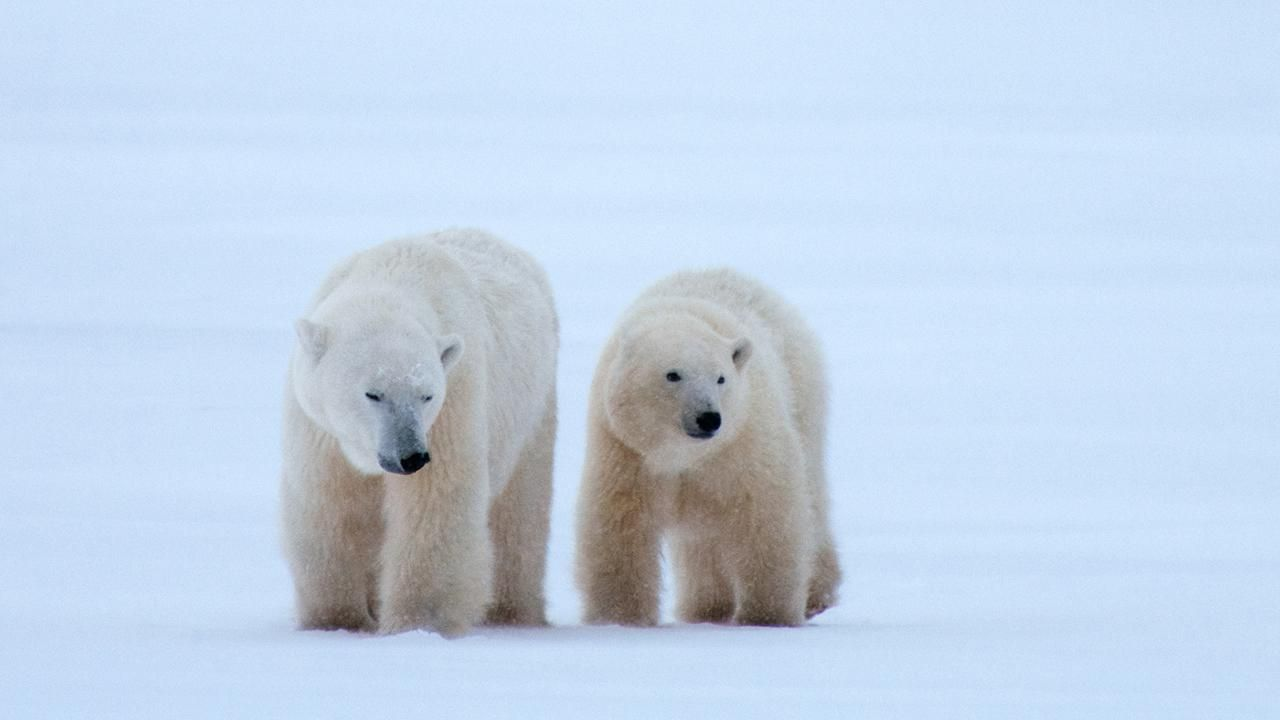PolarBear: (281, 200, 576, 653)
